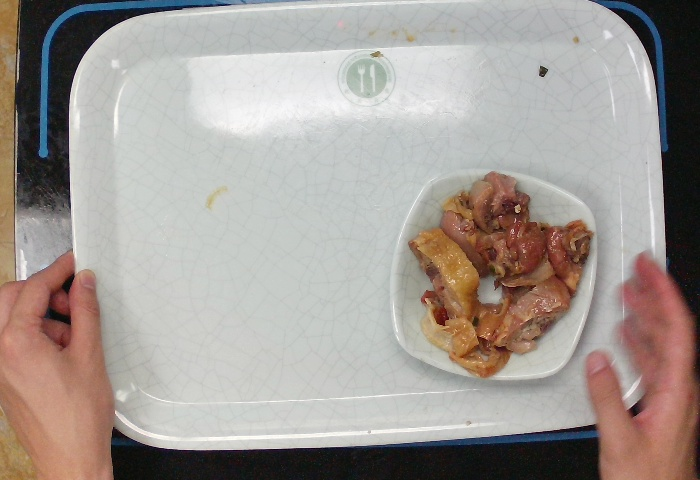WCQzf-Da_Si_Fang_Die: (385, 164, 603, 385)
